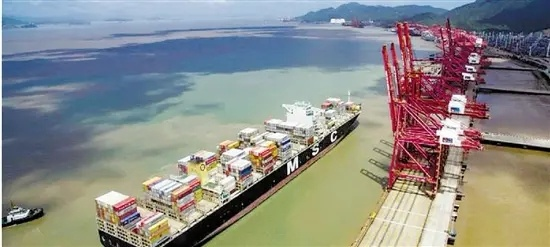Cargoship: (85, 90, 364, 244)
otherboat: (1, 202, 48, 225)
